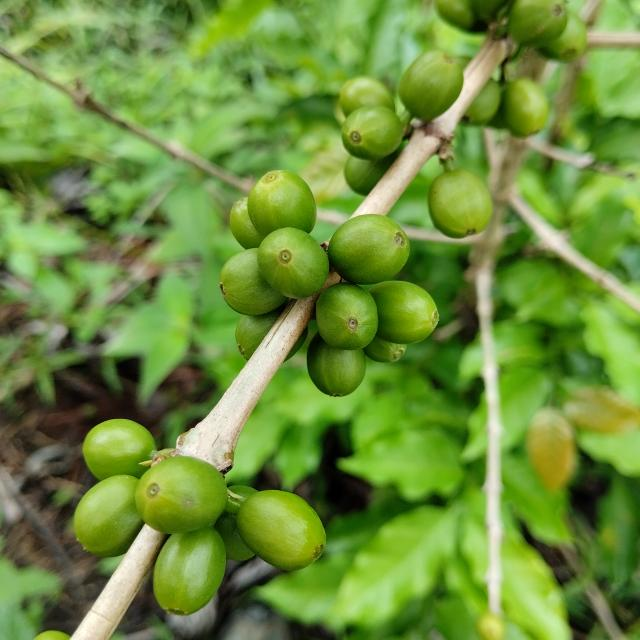green: (134, 456, 227, 535), (236, 491, 326, 572), (153, 527, 226, 617), (73, 475, 143, 558), (328, 214, 410, 284), (257, 227, 330, 299), (399, 49, 464, 121), (219, 248, 287, 316), (247, 170, 316, 237), (82, 419, 156, 481), (428, 168, 493, 238), (370, 281, 439, 344), (316, 283, 379, 351), (307, 332, 366, 397), (342, 105, 403, 159), (235, 306, 284, 360), (344, 150, 399, 195), (340, 76, 395, 116), (229, 197, 264, 249), (364, 336, 407, 363), (285, 327, 308, 361)
